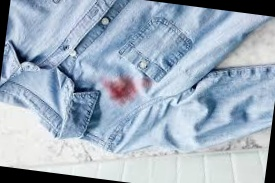wine: (99, 70, 154, 111)
